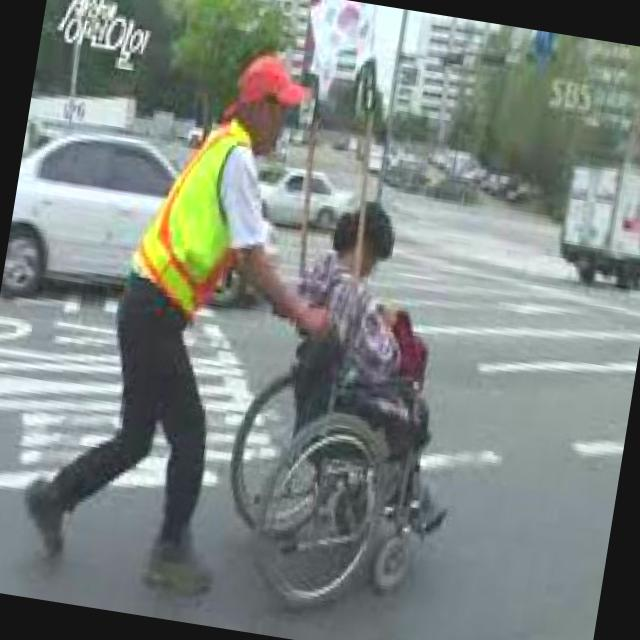Person: (20, 27, 370, 608), (218, 193, 490, 626)
